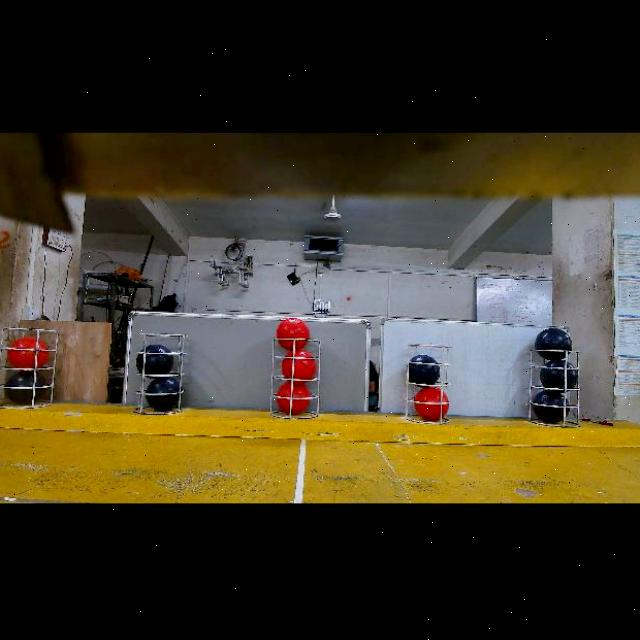P: (4, 371, 47, 407), (531, 389, 571, 424), (145, 376, 180, 412), (535, 330, 573, 362), (540, 360, 579, 391), (136, 345, 173, 377), (409, 356, 439, 386)
R: (7, 338, 50, 369), (281, 349, 317, 384), (276, 318, 310, 351), (415, 387, 447, 422), (277, 383, 310, 415)
S: (0, 324, 62, 408), (265, 336, 321, 422), (128, 332, 184, 414), (398, 344, 450, 430), (524, 349, 578, 431)
